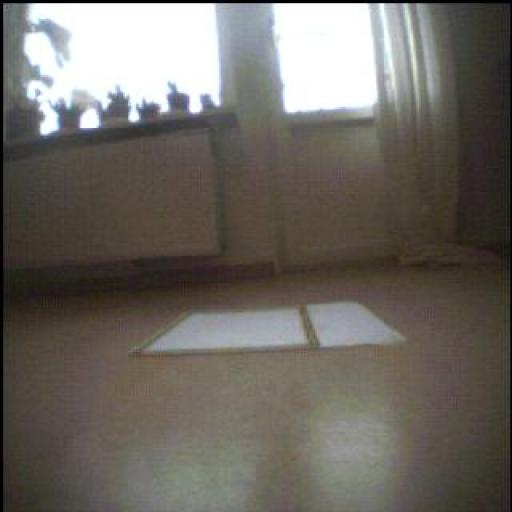Pad: (132, 304, 406, 357)
